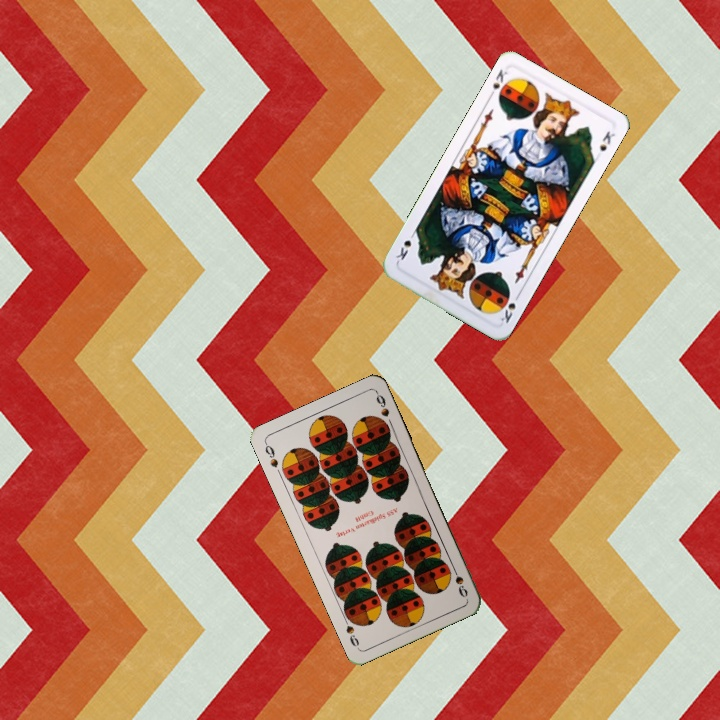S9: (448, 561, 470, 600), (261, 439, 281, 470)
SK: (496, 289, 523, 326), (484, 65, 511, 101)
